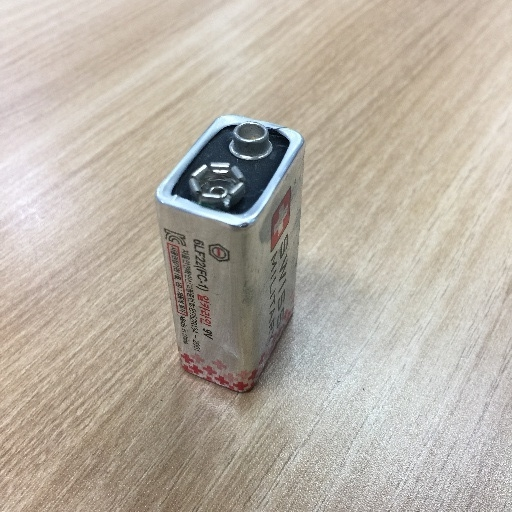Battery_3: (146, 94, 319, 404)
